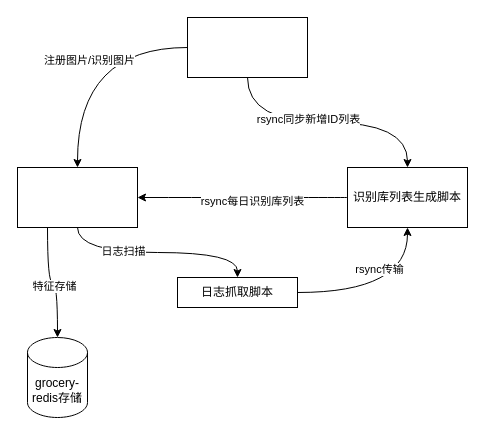
Image size: 485x435. Some labels were removed from this diagram. The box of each missing label's shape, as (x1, y1, x2, y2) in pixels:
qqmusic-ar 识别服务: (16, 166, 138, 228)
音乐运营后台: (186, 16, 308, 78)
